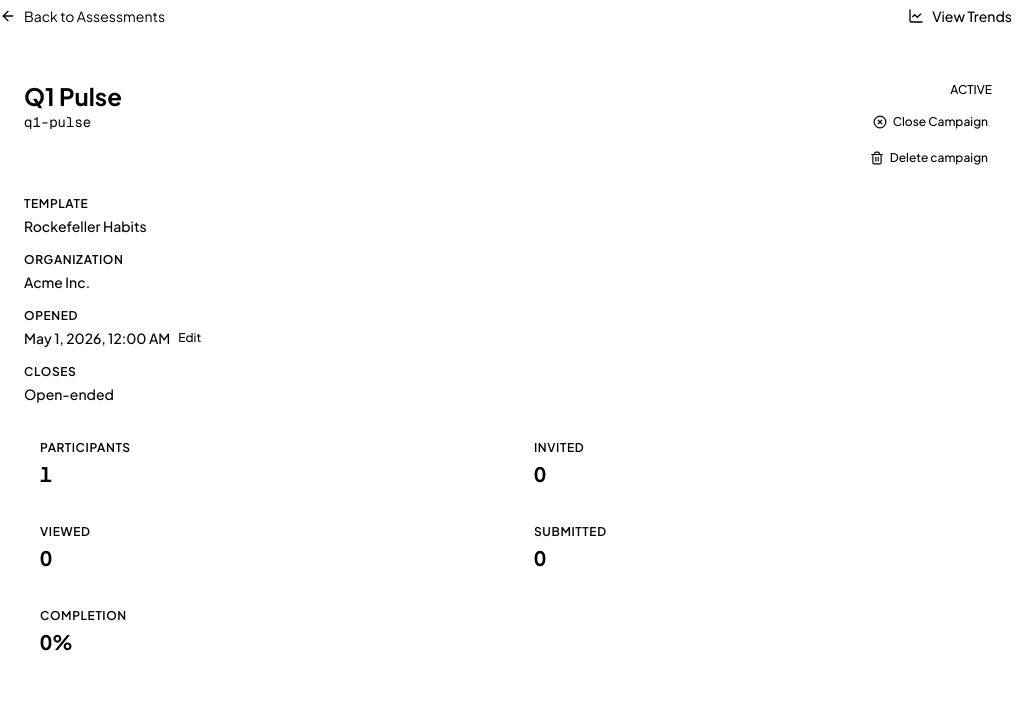
it: CampaignDetail Close button › Cancel closes the dialog without POSTing
Click the button with test id "campaign-close-btn" at (930, 122), box [861,108,1000,136]
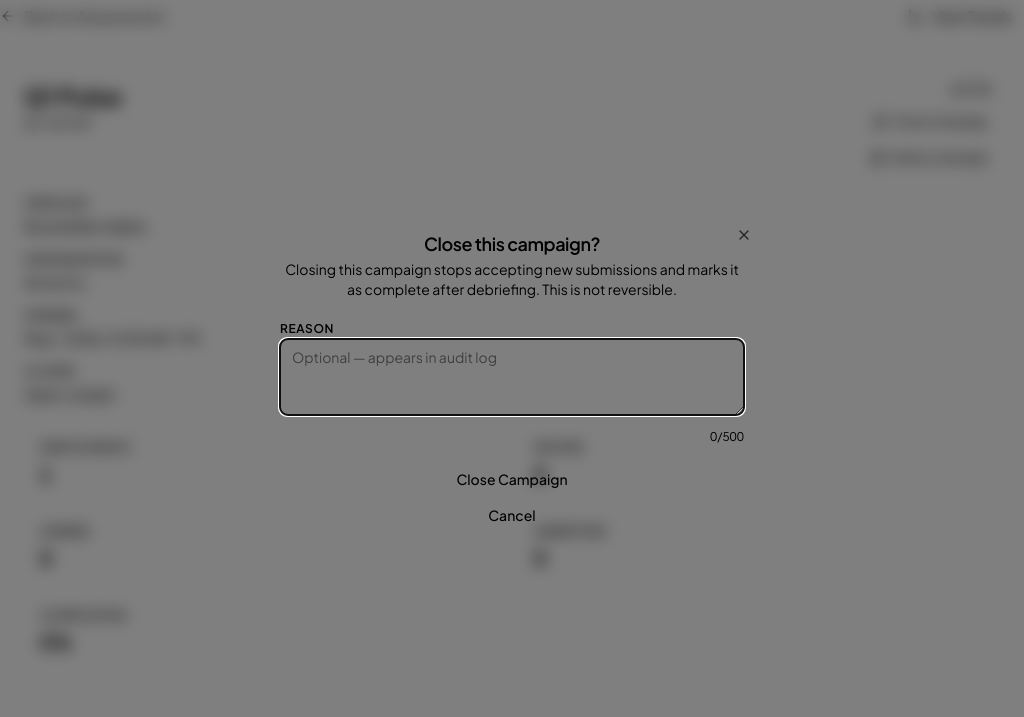
Expected: the dialog with test id "campaign-close-dialog" is shown, [256,211,768,557]
Click the button with test id "campaign-close-cancel" at (512, 515), box [280,497,744,533]
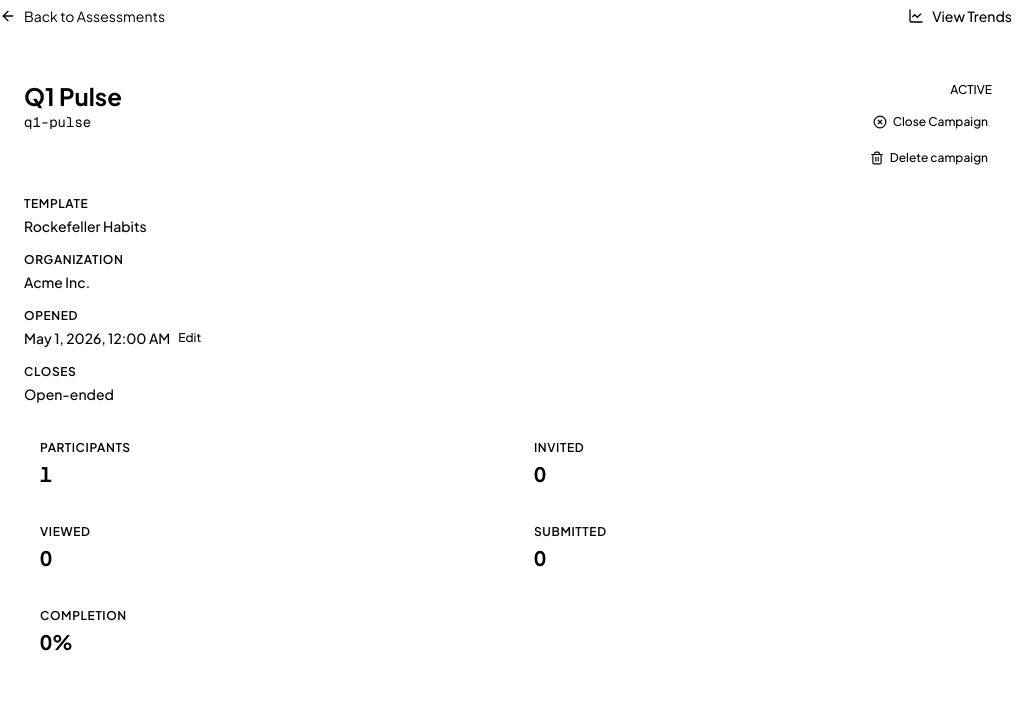
Expected: the dialog with test id "campaign-close-dialog" is gone
